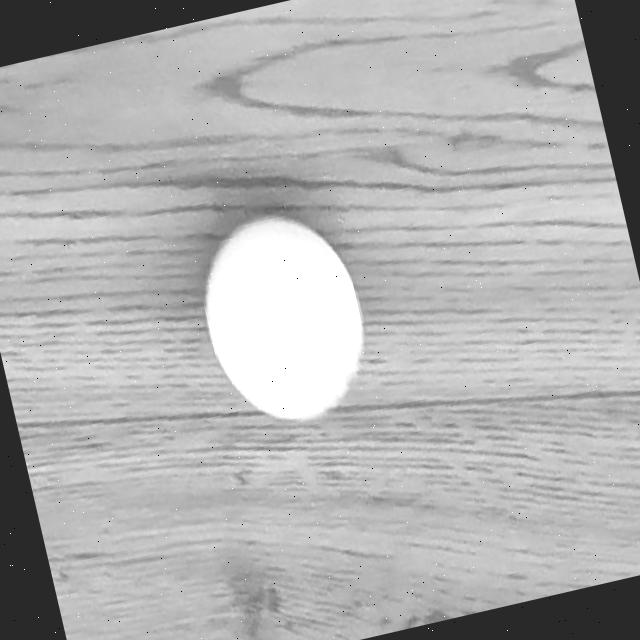ping-pong-ball: (189, 202, 378, 431)
